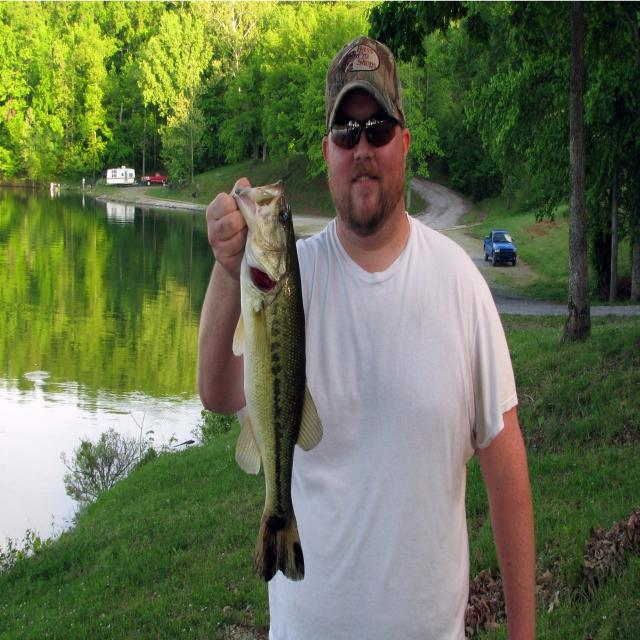Bass - Largemouth: (232, 182, 322, 581)
